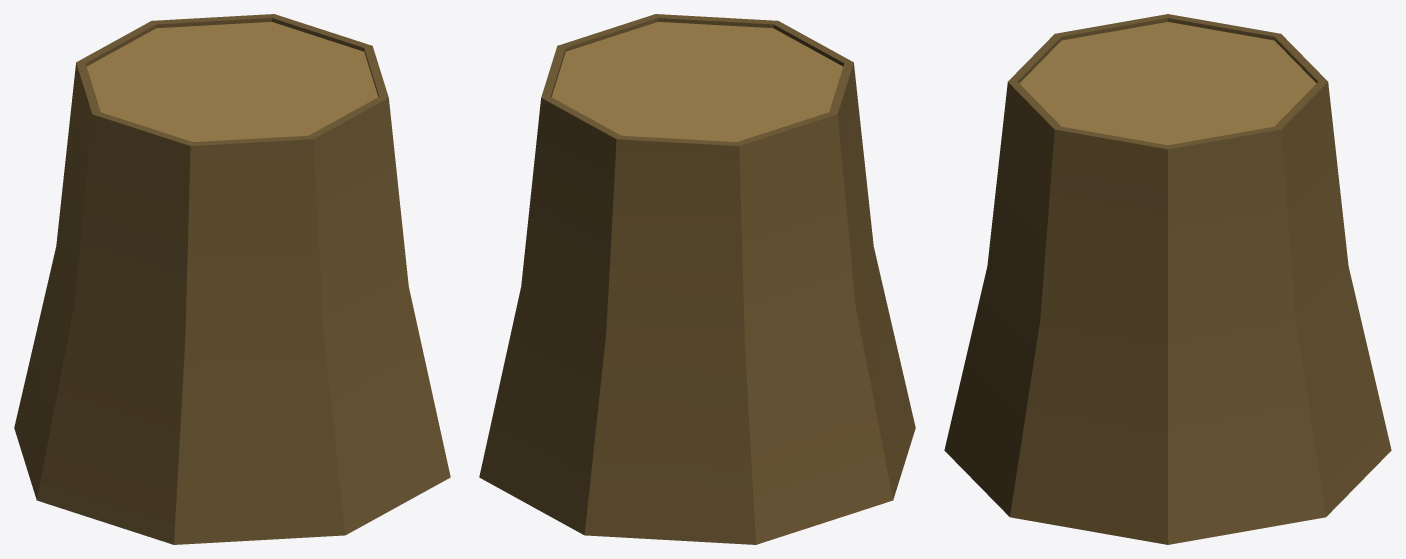
The model's file is Proto_TreeStump_04.fbx.
The picture shows the model from 3 angles, left to right: view 1: azimuth 30°, elevation 25°; view 2: azimuth 150°, elevation 25°; view 3: azimuth 270°, elevation 25°; orthographic projection.
Visible parts, largest first — view 1: polySurface1271; view 2: polySurface1271; view 3: polySurface1271.
Boxes of the visible parts, bbox=[...] form: polySurface1271: bbox=[14, 14, 450, 544]; polySurface1271: bbox=[479, 14, 915, 544]; polySurface1271: bbox=[944, 14, 1391, 544].
Bounding box in the file's own units: 8.48 × 7.71 × 8.48.
